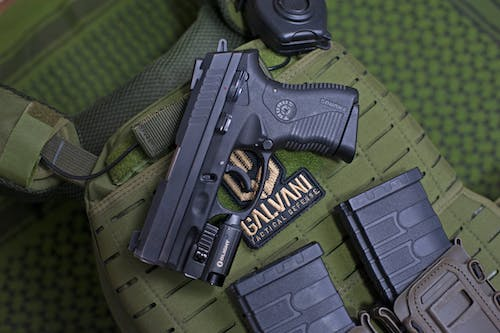gun: (126, 36, 362, 290)
